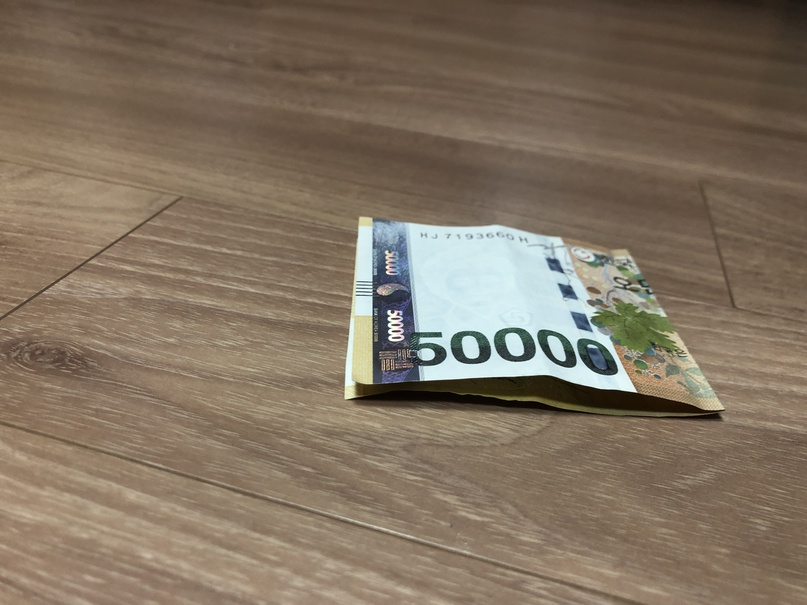50000won: (344, 218, 725, 419)
